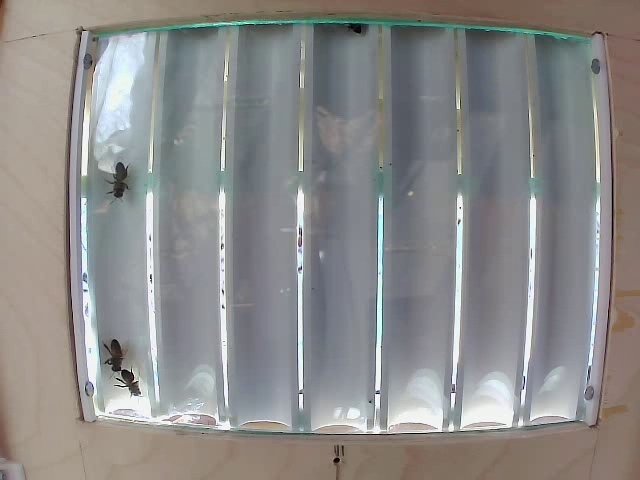bee: (90, 153, 148, 222), (90, 332, 135, 368), (112, 361, 144, 402)
